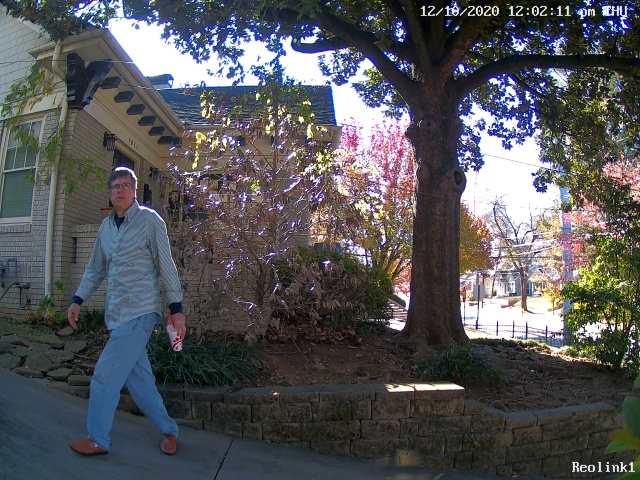person: (59, 144, 205, 480)
